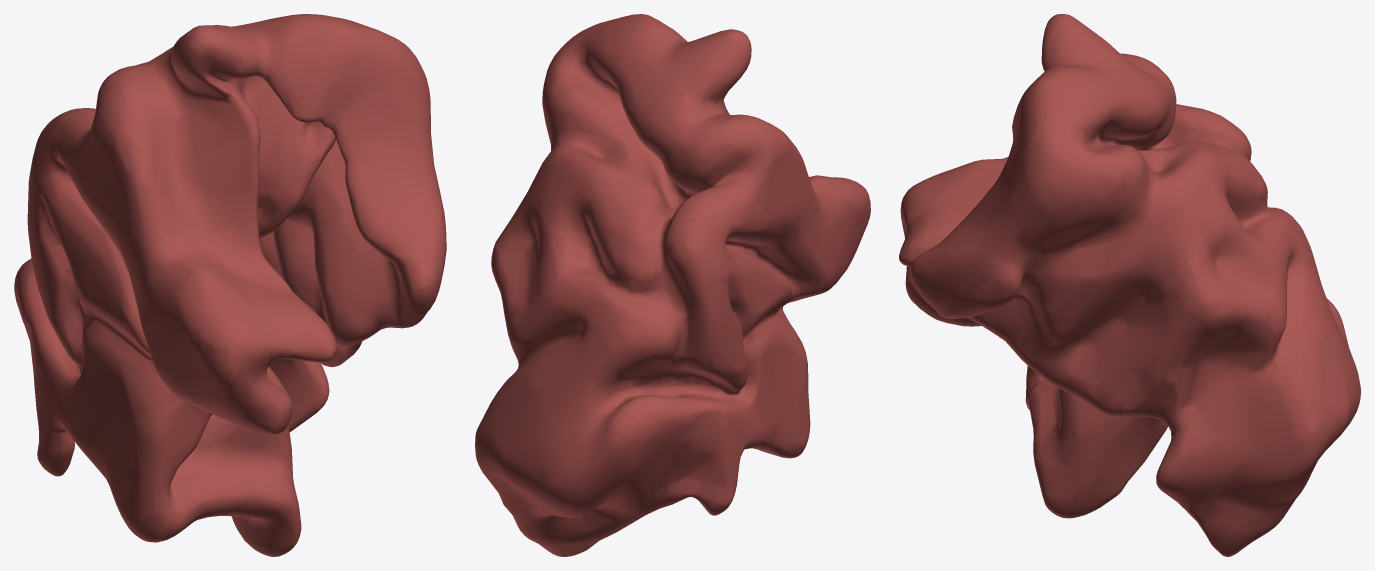
The picture shows the model from 3 angles, left to right: view 1: azimuth 30°, elevation 25°; view 2: azimuth 150°, elevation 25°; view 3: azimuth 270°, elevation 25°; orthographic projection. The views are drawn at different scales.
Parts seen in each view (by area): view 1: BP49; view 2: BP49; view 3: BP49.
Boxes of the visible parts, x1,y1,x2,y2 form: BP49: (14,14,446,556); BP49: (475,14,870,556); BP49: (899,14,1360,556).
Size of the model in its own units: 0.0346 by 0.0639 by 0.0541.
